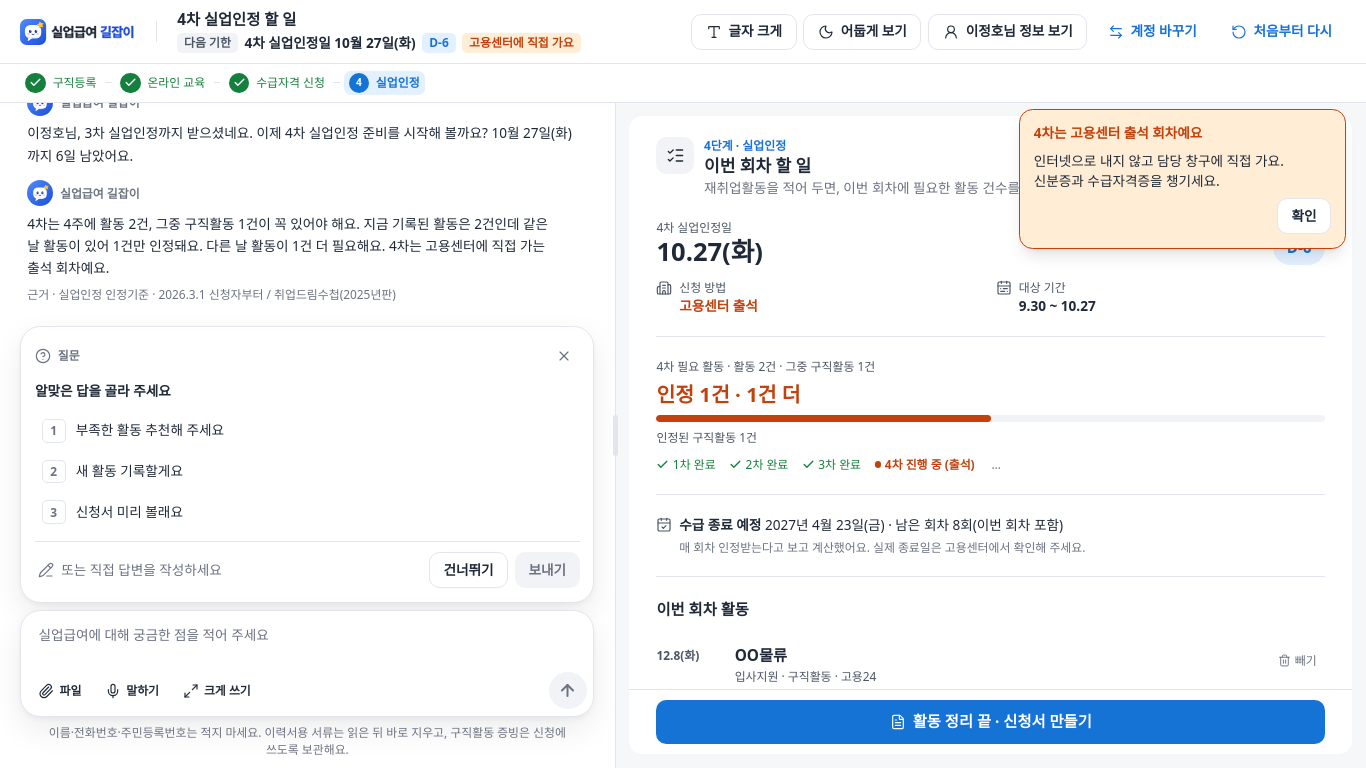
Test: DashboardScreen › 선택지를 고르고 보내기를 누르면 보내고, 스트림의 token·form_update·ask_user·done이 화면과 저장소에 반영된다
(page scrolled)
Check: the text "OO상사" is shown, box x1=735 y1=737 x2=787 y2=754
Click the radio button labelled "새 활동 기록할게요" at coordinates (112, 472), box x1=42 y1=460 x2=183 y2=483
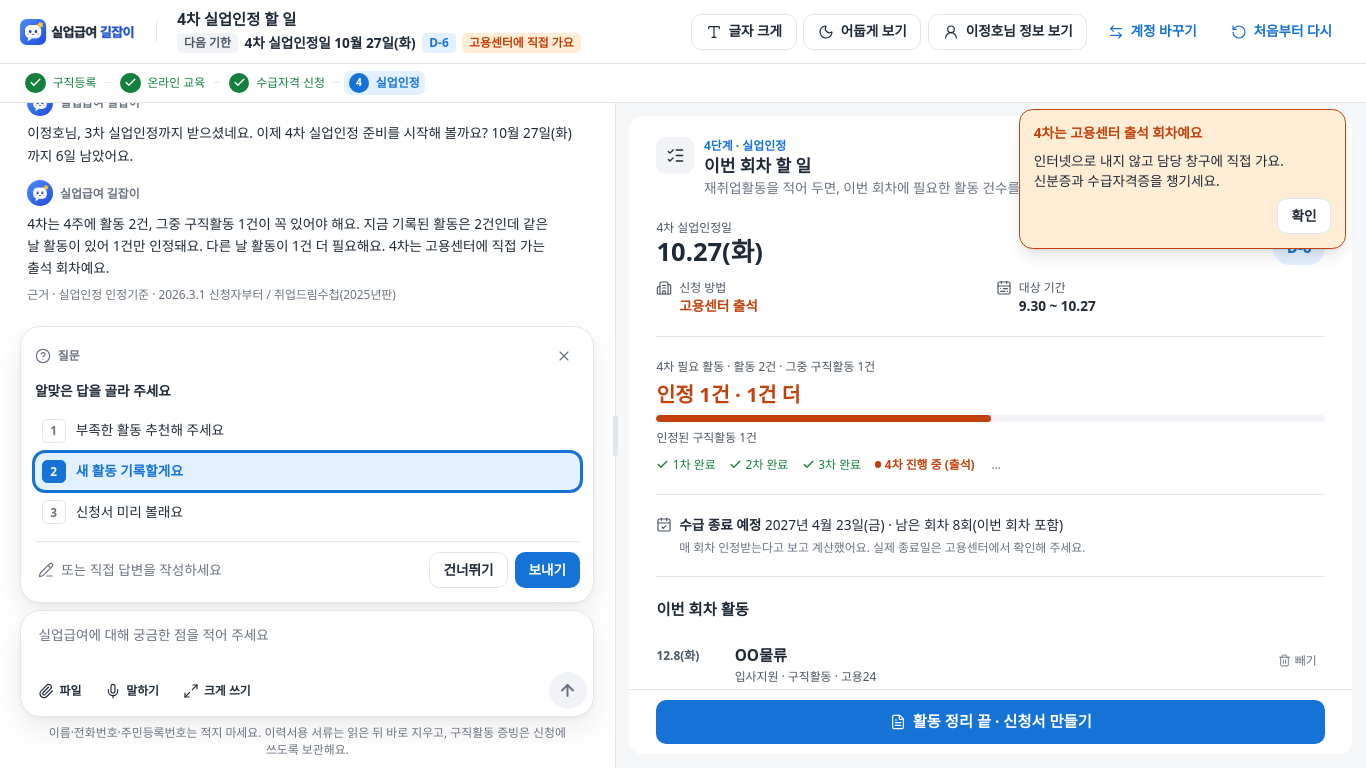
Click the button with aria-label "고른 답 보내기" at coordinates (547, 570), box x1=515 y1=552 x2=580 y2=588
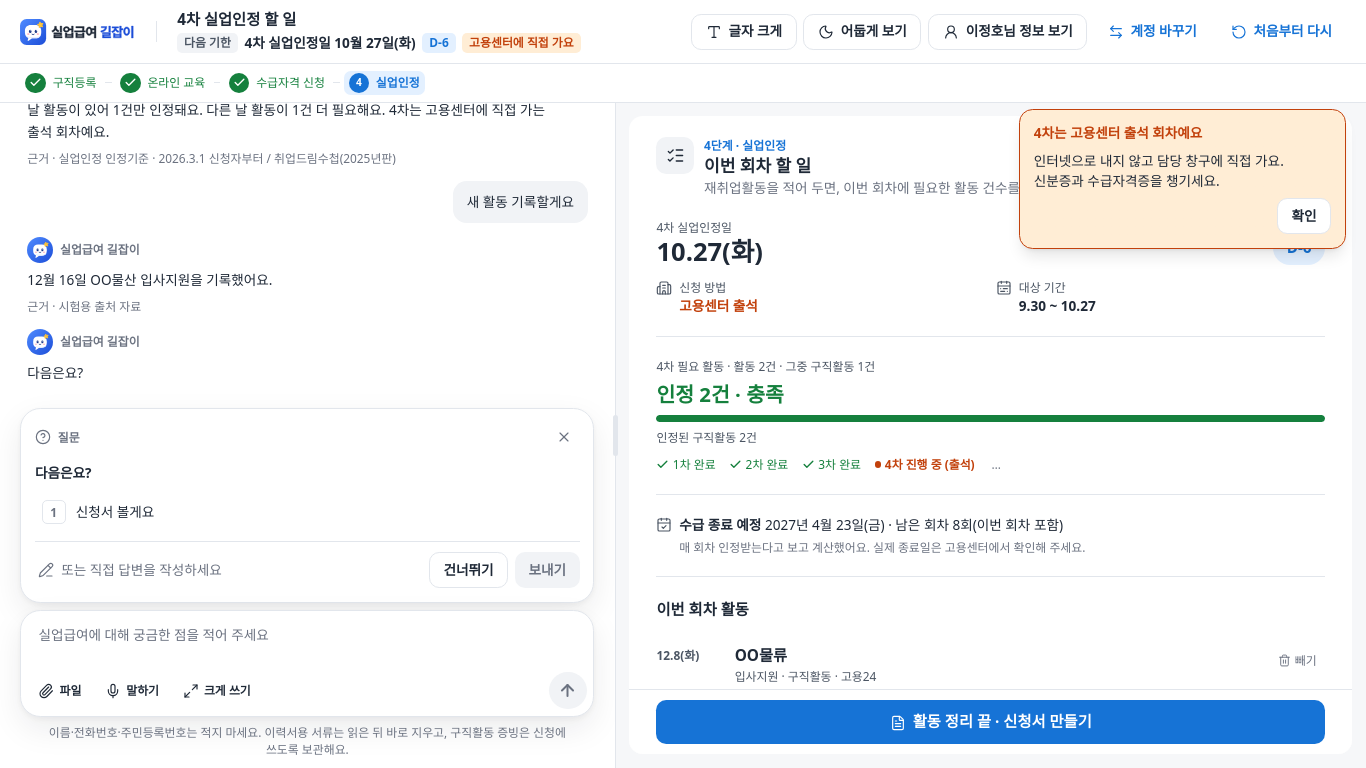
Check: the text "12월 16일 OO물산 입사지원을 기록했어요." is shown, box x1=27 y1=270 x2=272 y2=289
Check: the radio button labelled "신청서 볼게요" is shown, box x1=42 y1=500 x2=154 y2=524
Check: the text "근거 · 시험용 출처 자료" is shown, box x1=27 y1=298 x2=141 y2=314
